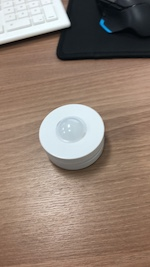bulb: (39, 104, 105, 170)
